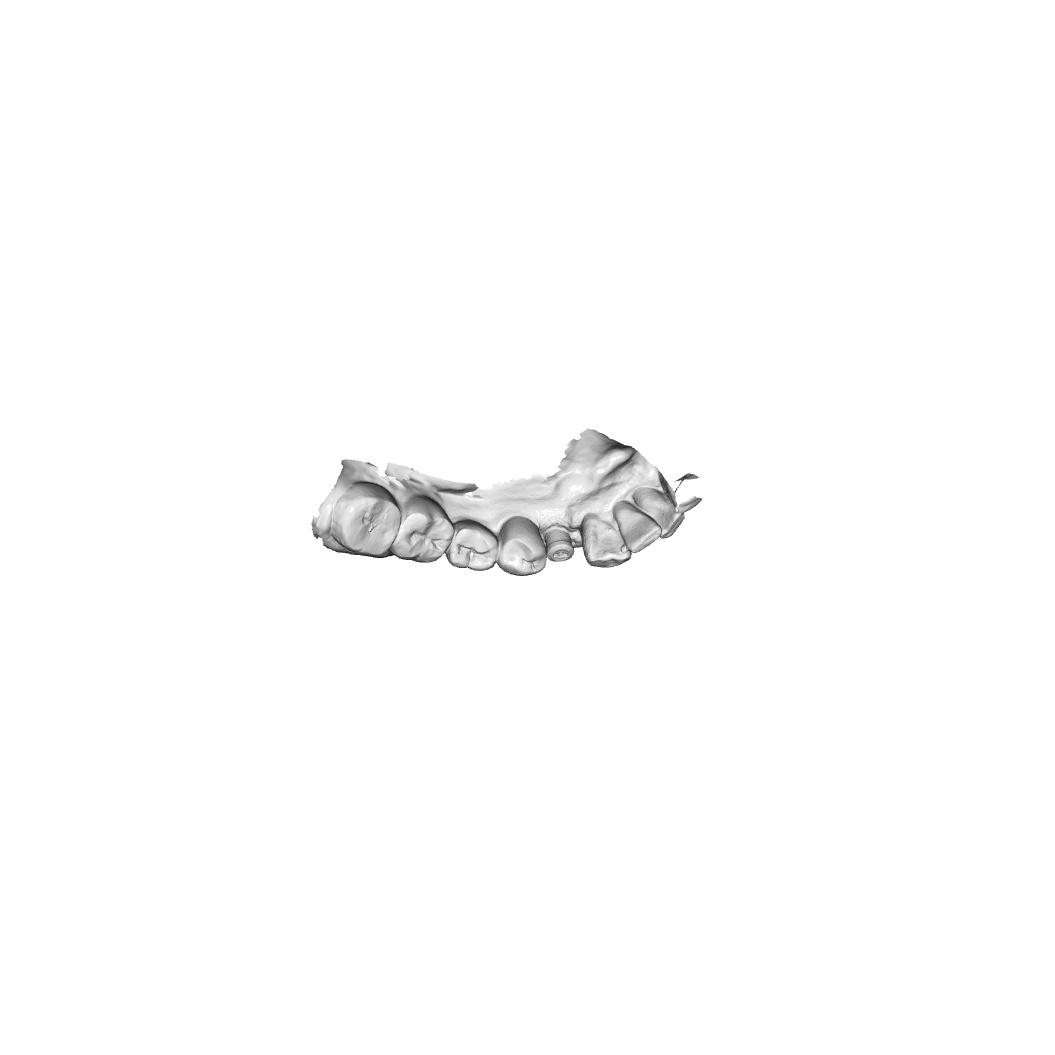implant_minus: (545, 526, 576, 565)
incisor: (631, 485, 688, 539), (580, 514, 634, 570), (612, 501, 663, 554)
molar: (329, 480, 404, 560), (391, 493, 455, 564)
premolar: (496, 515, 549, 578), (446, 518, 501, 574)
